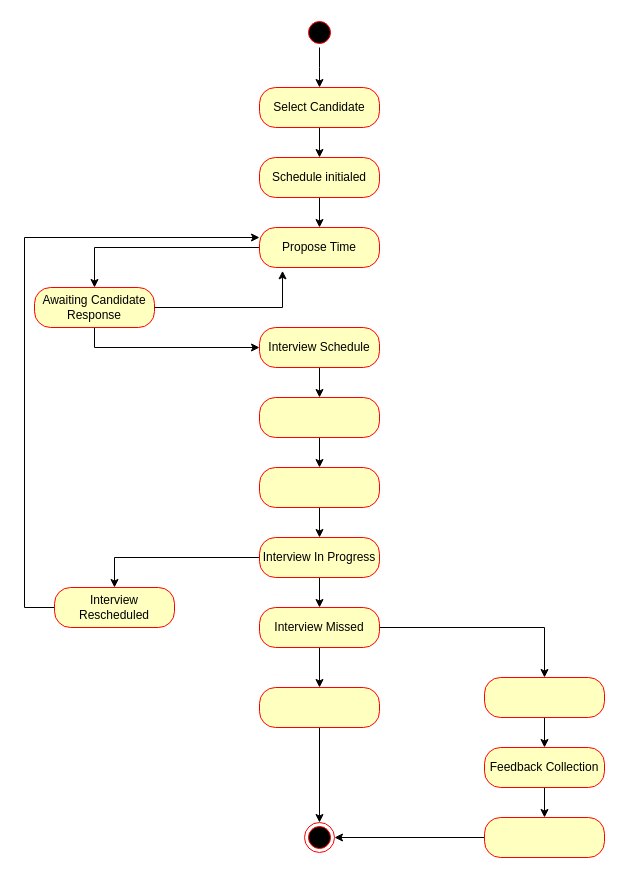
This 622x875 diagram has some shape labels left out. Here are the shapes that lost their labels. From the top down, the box of each, then its label:
(258, 396, 380, 438): Interview Comfirmed
(258, 466, 380, 508): Interview Reminder
(258, 686, 380, 728): Schedule cancelled
(484, 676, 604, 718): Interview Completed
(484, 816, 604, 858): Interview Closed
